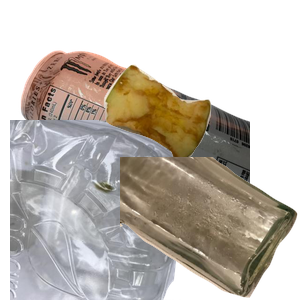glass: (120, 157, 300, 300)
metal: (18, 48, 258, 228)
plastic: (10, 120, 197, 300)
trash: (101, 62, 300, 217)
